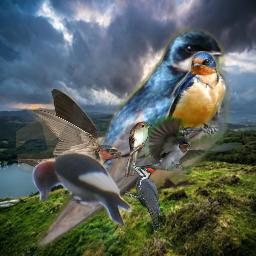Cuckoo: (125, 121, 152, 177)
Swallow: (37, 24, 233, 254), (16, 88, 122, 185), (145, 51, 227, 158), (138, 116, 242, 171)
Woodpecker: (29, 150, 135, 229), (125, 164, 163, 233)
